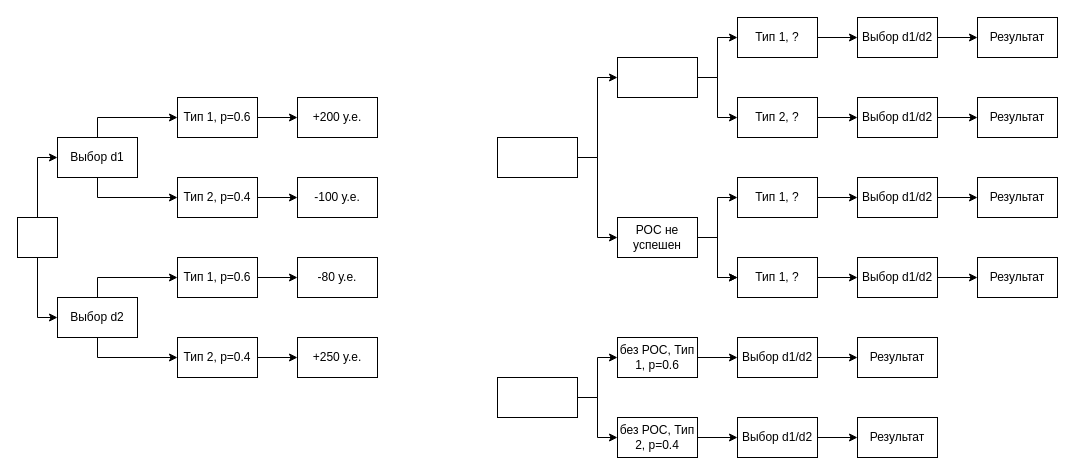
Image size: 1075x475. Some labels were removed from this diagram. Each missing label, with the centre of its shape:
Решение: Не проводить РОС: point (537, 397)
Решение: Проводить РОС?: point (537, 157)
РОС успешен: point (657, 77)
